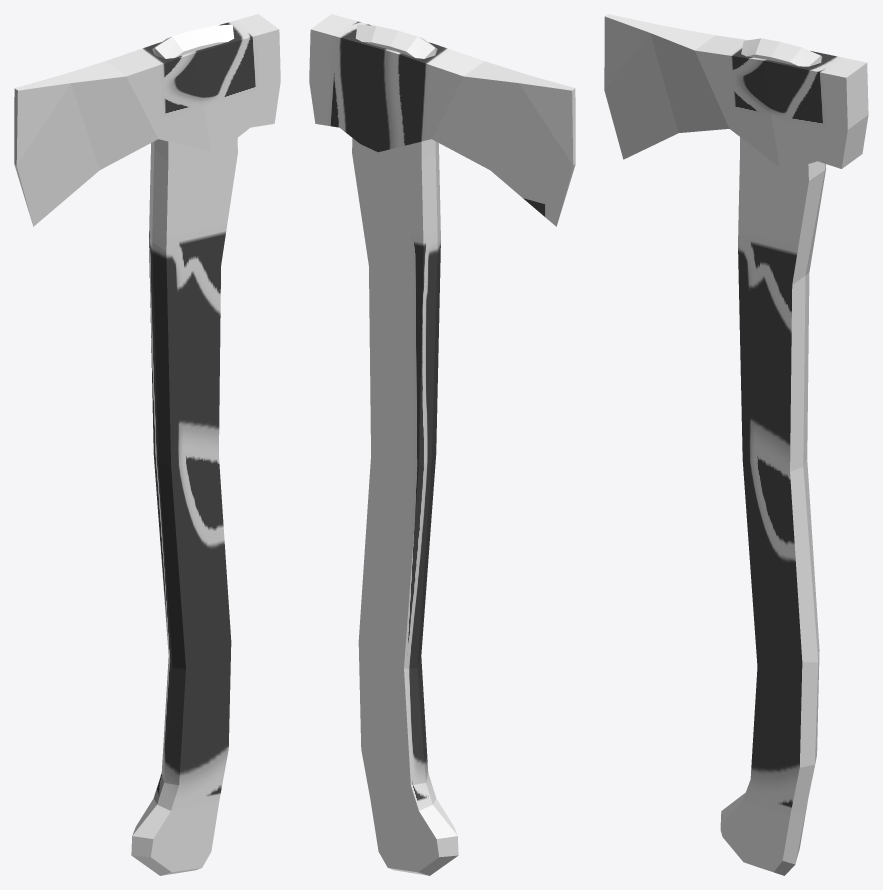
The model's file is axe.fbx.
3 views of the same model, side by side, from view 1: azimuth 30°, elevation 25°; view 2: azimuth 150°, elevation 25°; view 3: azimuth 330°, elevation 25° (orthographic).
Parts seen in each view (by area): view 1: axe; view 2: axe; view 3: axe.
Part boxes in pixels (x1=…): axe: x1=14, y1=14, x2=280, y2=875; axe: x1=309, y1=14, x2=575, y2=875; axe: x1=604, y1=14, x2=868, y2=875.
Bounding box in the file's own units: 3.83 × 12.08 × 0.5465.
